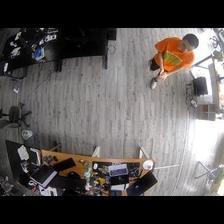normal: (149, 33, 197, 91)
